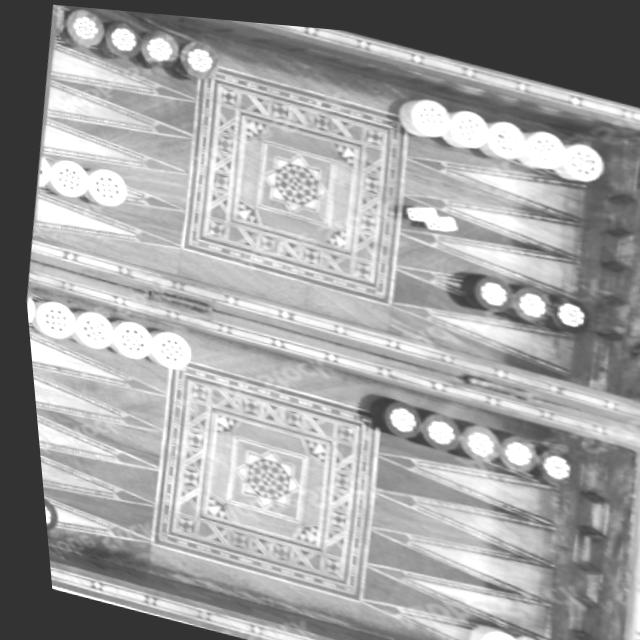bar: (30, 242, 602, 429)
board: (0, 0, 640, 640)
dark_p: (448, 257, 518, 311), (165, 26, 225, 84), (358, 384, 419, 438), (129, 19, 185, 74), (497, 268, 556, 320), (516, 431, 574, 481), (444, 408, 497, 461), (96, 11, 150, 63), (407, 399, 458, 449), (537, 280, 590, 328), (482, 420, 535, 467), (59, 4, 110, 52), (34, 489, 58, 542), (45, 3, 71, 43)
dice: (418, 201, 459, 230), (397, 191, 436, 220)
light_p: (390, 79, 456, 136), (550, 126, 608, 180), (471, 102, 529, 156), (436, 90, 492, 145), (135, 320, 192, 373), (509, 114, 567, 166), (94, 310, 150, 363), (58, 301, 112, 354), (22, 293, 76, 343), (77, 160, 128, 210), (40, 153, 87, 202), (450, 612, 514, 640), (29, 151, 51, 194), (497, 624, 556, 640), (20, 291, 31, 333)
